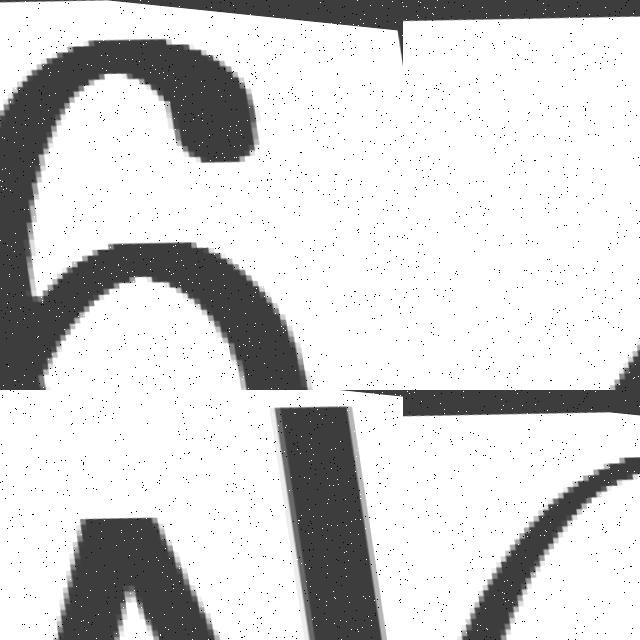7: (403, 5, 640, 390)
9: (0, 0, 352, 390), (403, 395, 640, 640)
M: (0, 390, 403, 640)
